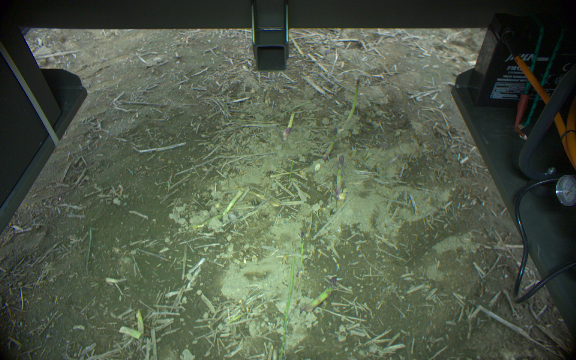aspa: (300, 274, 338, 317), (339, 78, 361, 131), (333, 153, 347, 201), (221, 189, 242, 216), (282, 111, 296, 138), (320, 139, 335, 160)
